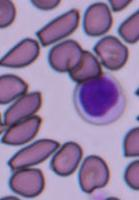L: (73, 73, 127, 125)
